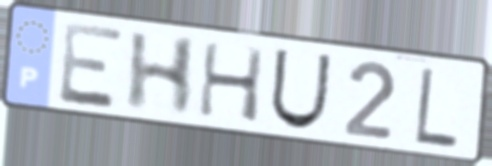2: (340, 59, 398, 143)
E: (57, 19, 127, 112)
H: (123, 30, 201, 118), (195, 38, 268, 125)
L: (412, 64, 460, 152)
U: (266, 46, 335, 132)
